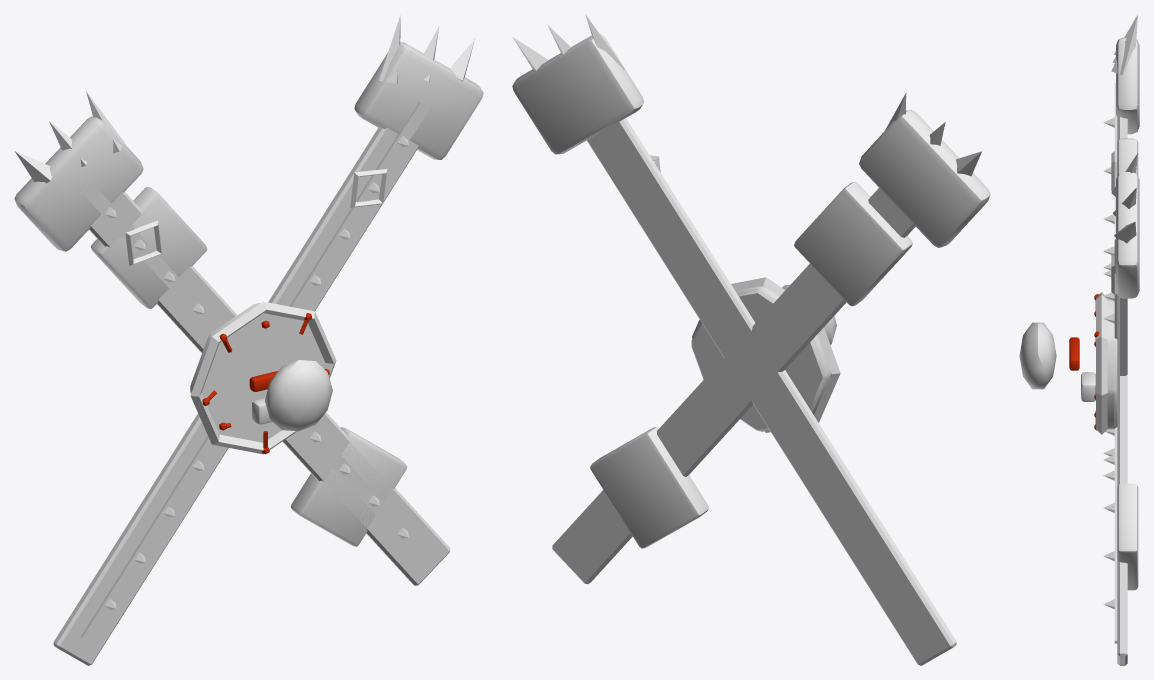
File: daggers2_Harness.fbx
3 renders of one model, left to right at view 1: azimuth 30°, elevation 25°; view 2: azimuth 150°, elevation 25°; view 3: azimuth 270°, elevation 25°, orthographic. The views are drawn at different scales.
Visible parts, largest first — view 1: K2Harness; view 2: K2Harness; view 3: K2Harness.
Part boxes in pixels (x1,y1,x2,y2): K2Harness: (14,15,483,665); K2Harness: (512,14,990,665); K2Harness: (1019,15,1139,665).
Bounding box in the file's own units: 1.85 × 2.16 × 0.4615.
